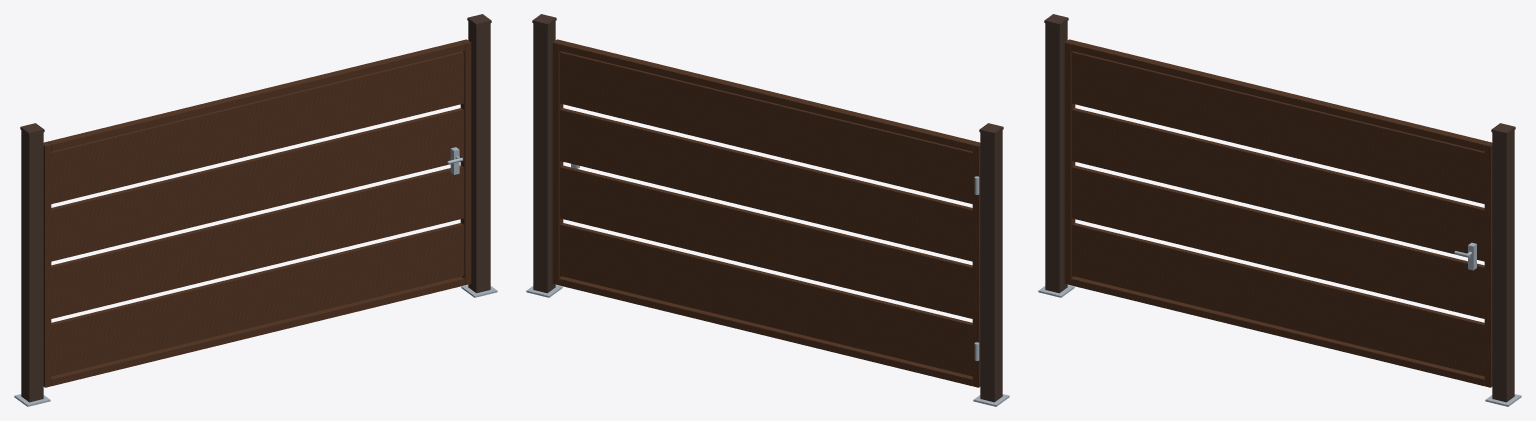
Rendered from 02-jednokrilna.glb.
The picture shows the model from 3 angles, left to right: view 1: azimuth 30°, elevation 25°; view 2: azimuth 150°, elevation 25°; view 3: azimuth 330°, elevation 25°; orthographic projection.
Visible parts, largest first — view 1: Ispuna_horizontalna.069, Ispuna_horizontalna.070, Ispuna_horizontalna.071, Ispuna_horizontalna.072, Stub_levi.005, Stub_desni.005, Ram_gornji.006, Ram_donji.006, Ram_bocni.012, Ram_bocni.013; view 2: Ispuna_horizontalna.070, Ispuna_horizontalna.071, Ispuna_horizontalna.069, Ispuna_horizontalna.072, Stub_levi.005, Stub_desni.005, Ram_gornji.006, Ram_donji.006, Ram_bocni.012, Ram_bocni.013; view 3: Ispuna_horizontalna.069, Ispuna_horizontalna.070, Ispuna_horizontalna.071, Ispuna_horizontalna.072, Stub_desni.005, Stub_levi.005, Ram_gornji.006, Ram_donji.006, Ram_bocni.013, Ram_bocni.012.
Part boxes in pixels (bbox=[...]): Ispuna_horizontalna.069: bbox=[51, 223, 463, 376]; Ispuna_horizontalna.070: bbox=[51, 165, 463, 318]; Ispuna_horizontalna.071: bbox=[51, 108, 463, 261]; Ispuna_horizontalna.072: bbox=[51, 51, 463, 203]; Stub_levi.005: bbox=[21, 130, 43, 402]; Stub_desni.005: bbox=[468, 21, 490, 293]; Ram_gornji.006: bbox=[47, 41, 464, 151]; Ram_donji.006: bbox=[51, 276, 464, 385]; Ram_bocni.012: bbox=[43, 142, 51, 387]; Ram_bocni.013: bbox=[460, 39, 471, 285]; Ispuna_horizontalna.070: bbox=[560, 165, 972, 318]; Ispuna_horizontalna.071: bbox=[560, 108, 972, 261]; Ispuna_horizontalna.069: bbox=[560, 223, 972, 376]; Ispuna_horizontalna.072: bbox=[560, 51, 972, 203]; Stub_levi.005: bbox=[980, 130, 1002, 402]; Stub_desni.005: bbox=[533, 21, 555, 293]; Ram_gornji.006: bbox=[559, 41, 976, 151]; Ram_donji.006: bbox=[559, 276, 972, 385]; Ram_bocni.012: bbox=[972, 142, 980, 387]; Ram_bocni.013: bbox=[552, 39, 563, 285]; Ispuna_horizontalna.069: bbox=[1072, 223, 1484, 376]; Ispuna_horizontalna.070: bbox=[1072, 165, 1484, 318]; Ispuna_horizontalna.071: bbox=[1072, 108, 1484, 261]; Ispuna_horizontalna.072: bbox=[1072, 51, 1484, 203]; Stub_desni.005: bbox=[1492, 130, 1514, 402]; Stub_levi.005: bbox=[1045, 21, 1067, 293]; Ram_gornji.006: bbox=[1071, 41, 1488, 151]; Ram_donji.006: bbox=[1071, 276, 1484, 385]; Ram_bocni.013: bbox=[1484, 142, 1492, 387]; Ram_bocni.012: bbox=[1064, 39, 1075, 285].
Size of the model in its own units: 3.26 by 1.8 by 0.19.
3 materials, 1 textured.
